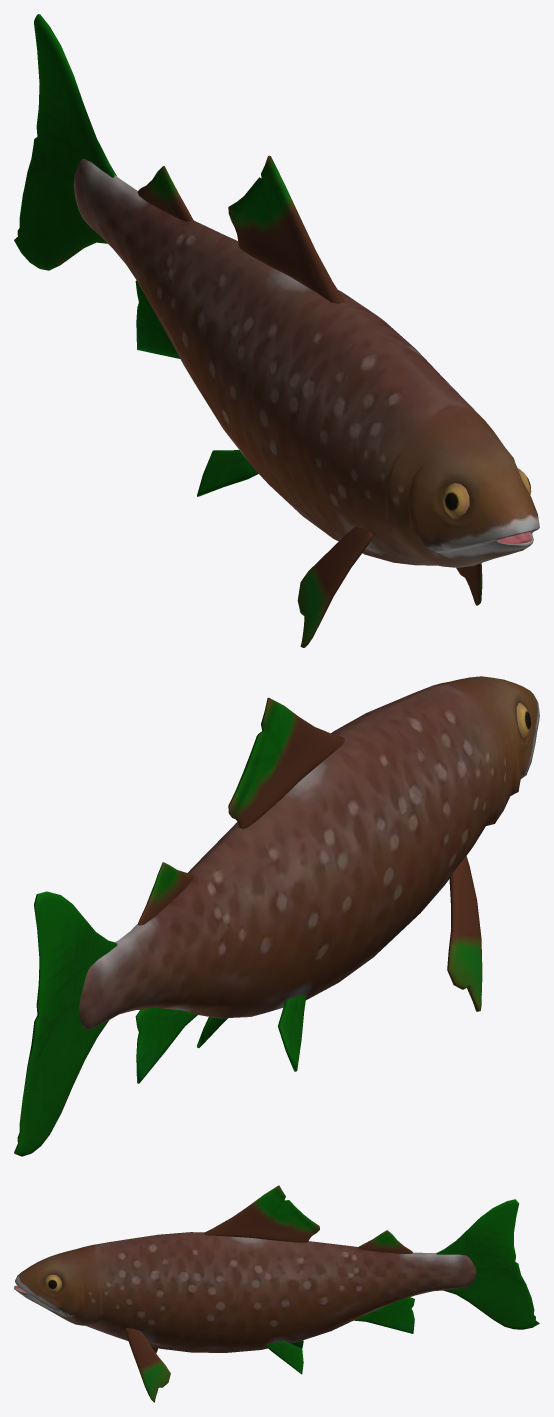
3 renders of one model, top to bottom at view 1: azimuth 30°, elevation 25°; view 2: azimuth 150°, elevation 25°; view 3: azimuth 270°, elevation 25°, orthographic. The views are drawn at different scales.
Visible parts, largest first — view 1: SM_Fish_MonkFish_01_LOD0; view 2: SM_Fish_MonkFish_01_LOD0; view 3: SM_Fish_MonkFish_01_LOD0.
Part boxes in pixels (x1=…): SM_Fish_MonkFish_01_LOD0: x1=14, y1=14, x2=539, y2=647; SM_Fish_MonkFish_01_LOD0: x1=14, y1=676, x2=539, y2=1156; SM_Fish_MonkFish_01_LOD0: x1=14, y1=1185, x2=539, y2=1402.
Bounding box in the file's own units: 0.1154 × 0.2339 × 0.5693.
1 material, 1 textured.
